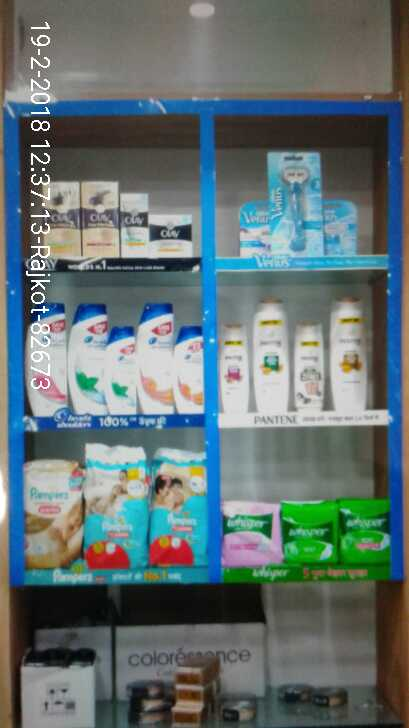venus: (268, 151, 324, 254), (324, 200, 358, 254), (239, 199, 268, 253)
